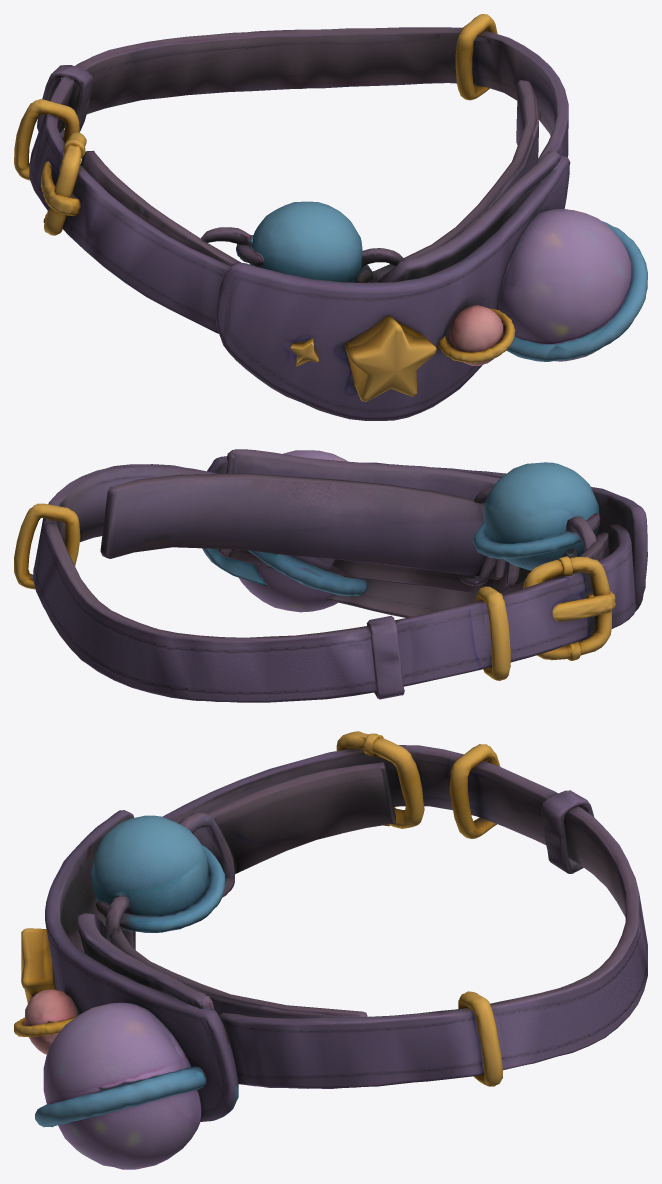
Rendered from mem_ac_space.fbx.
3 views of the same model, one above another, from view 1: azimuth 30°, elevation 25°; view 2: azimuth 150°, elevation 25°; view 3: azimuth 270°, elevation 25° (orthographic). The views are drawn at different scales.
Visible parts, largest first — view 1: tripo_node_c185f36d; view 2: tripo_node_c185f36d; view 3: tripo_node_c185f36d.
Part boxes in pixels (<box>): tripo_node_c185f36d: <box>14,14,647,420</box>; tripo_node_c185f36d: <box>14,449,647,702</box>; tripo_node_c185f36d: <box>14,731,647,1169</box>.
Bounding box in the file's own units: 0.998 × 0.4121 × 0.998.
